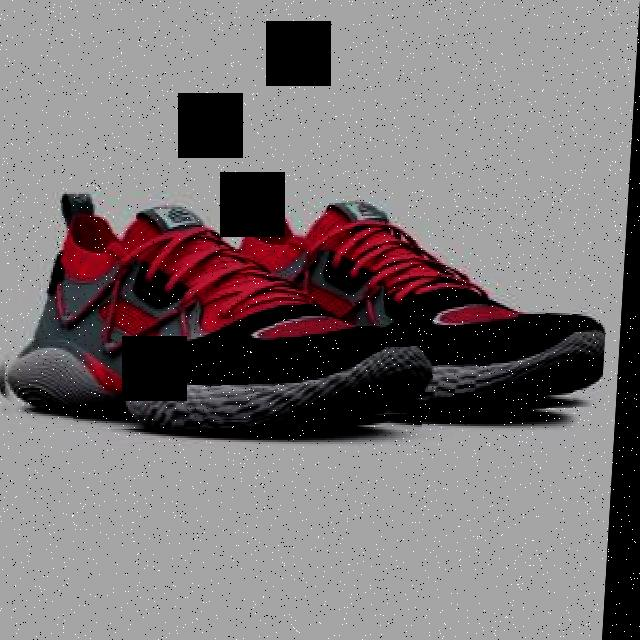shoe: (0, 195, 438, 429), (197, 195, 616, 421)
